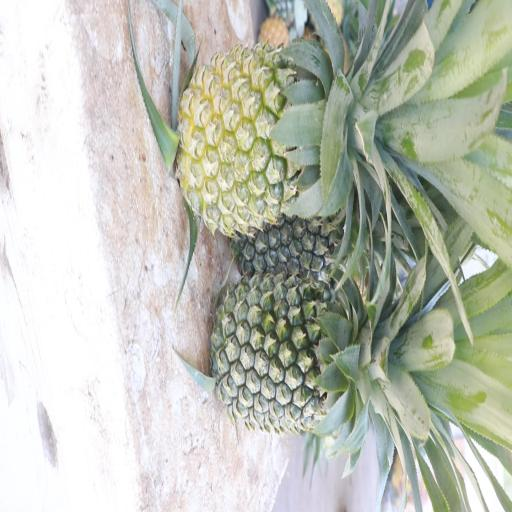Pineapple - v8 v1: (176, 34, 358, 234)
